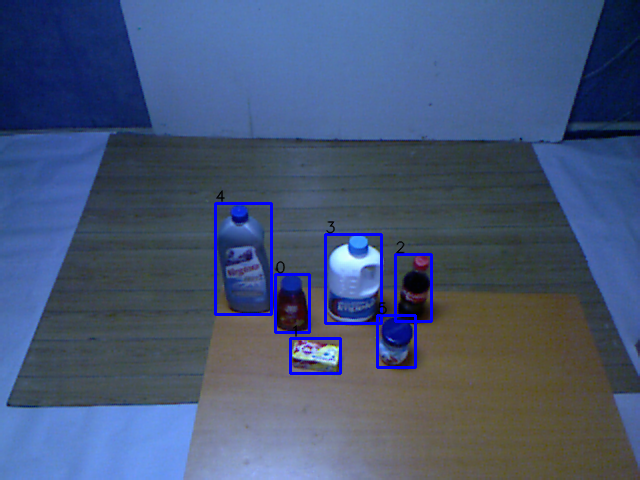cloro: (321, 234, 389, 330)
coca: (392, 250, 441, 327)
crema: (211, 205, 279, 317), (374, 316, 416, 370)
ketchup: (273, 271, 315, 335)
mantequilla: (284, 333, 349, 377)
